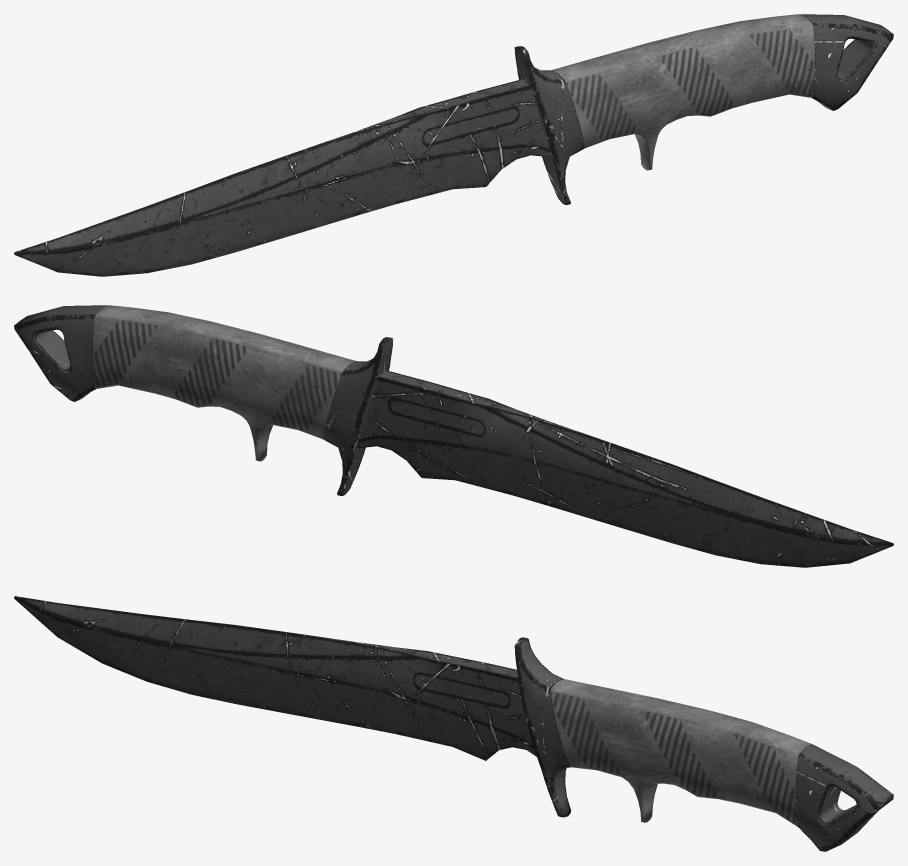
The model's file is Knife_color.fbx.
3 renders of one model, top to bottom at view 1: azimuth 30°, elevation 25°; view 2: azimuth 150°, elevation 25°; view 3: azimuth 330°, elevation 25°, orthographic.
Parts seen in each view (by area): view 1: LaminaLow; view 2: LaminaLow; view 3: LaminaLow.
Part boxes in pixels (x1=…): LaminaLow: x1=14, y1=14, x2=893, y2=276; LaminaLow: x1=14, y1=305, x2=893, y2=567; LaminaLow: x1=14, y1=596, x2=893, y2=851.
Size of the model in its own units: 27.85 by 5.09 by 1.05.
Materials: 1 (1 with a texture image).
